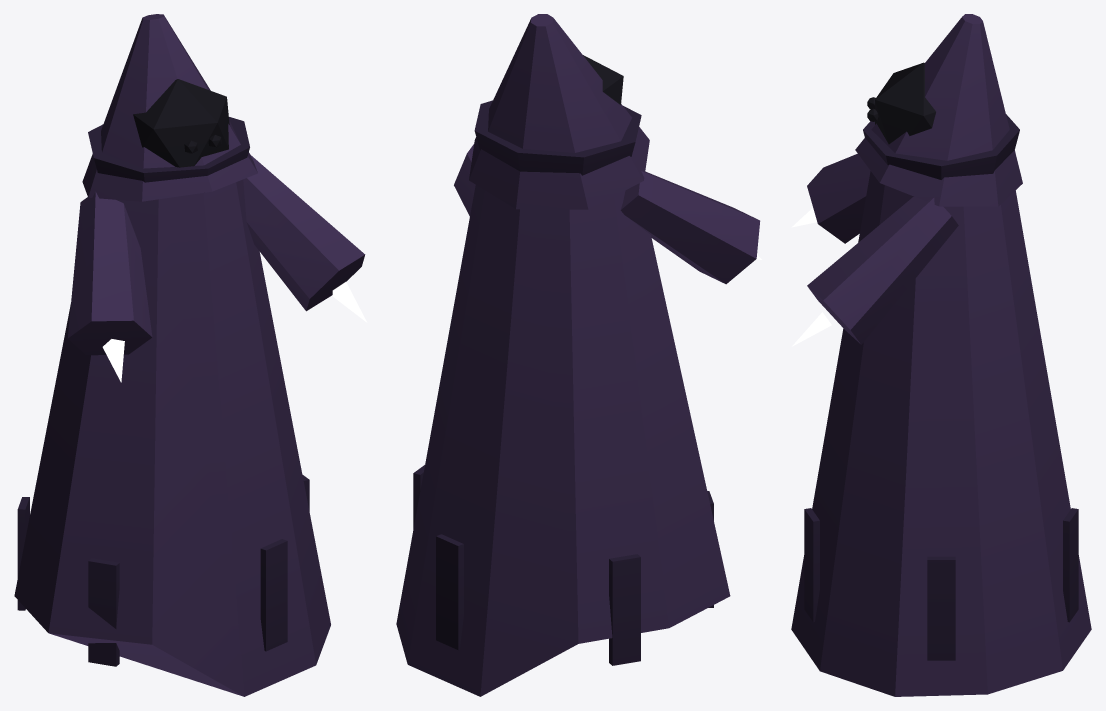
The model's file is enemy_wraith.glb.
3 views of the same model, side by side, from view 1: azimuth 30°, elevation 25°; view 2: azimuth 150°, elevation 25°; view 3: azimuth 270°, elevation 25° (orthographic). The views are drawn at different scales.
Visible parts, largest first — view 1: enemy_wraith; view 2: enemy_wraith; view 3: enemy_wraith.
Part boxes in pixels (<box>): enemy_wraith: <box>14,14,367,696</box>; enemy_wraith: <box>396,14,761,696</box>; enemy_wraith: <box>791,14,1091,696</box>.
Bounding box in the file's own units: 0.9 × 1.8 × 0.8.
